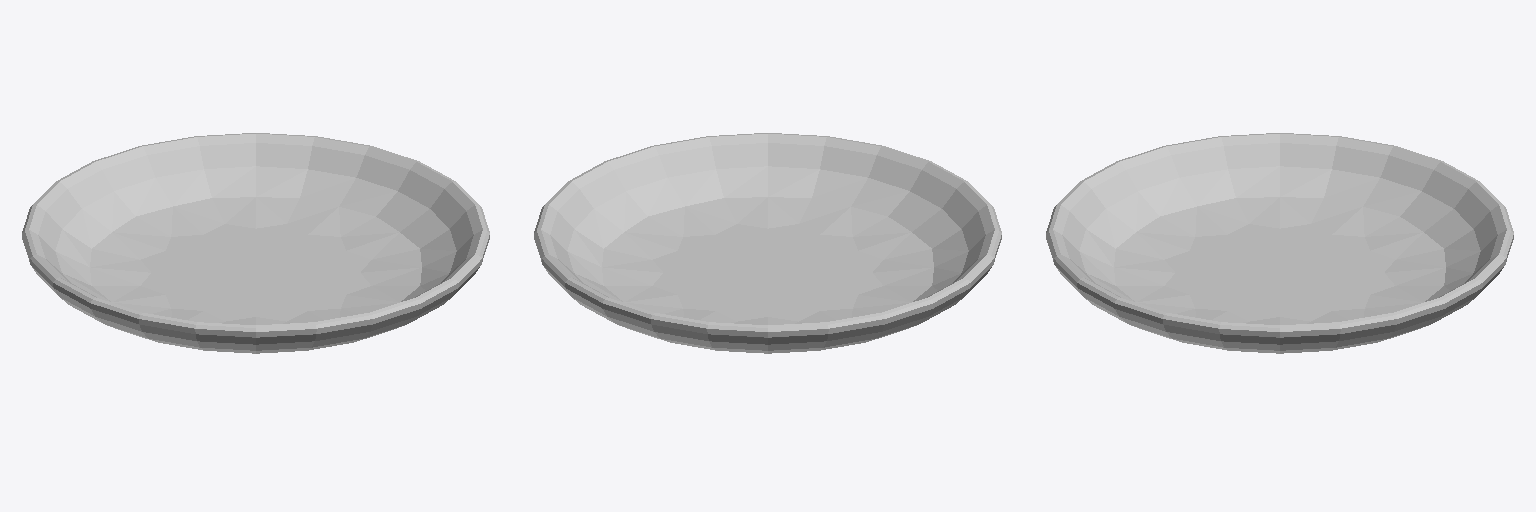
Rendered from plate.obj.
3 views of the same model, side by side, from view 1: azimuth 30°, elevation 25°; view 2: azimuth 150°, elevation 25°; view 3: azimuth 270°, elevation 25° (orthographic).
Visible parts, largest first — view 1: plate; view 2: plate; view 3: plate.
Boxes of the visible parts, x1,y1,x2,y2 form: plate: [22, 133, 489, 353]; plate: [534, 133, 1001, 353]; plate: [1046, 133, 1513, 353].
Bounding box in the file's own units: 2.97 × 0.3701 × 2.97.